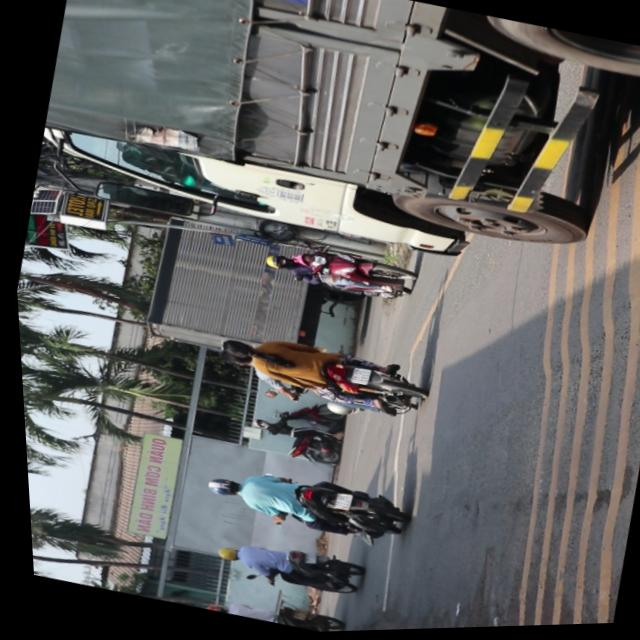helmet: (197, 473, 233, 499), (258, 253, 289, 273)
licenseplate: (201, 320, 425, 432), (192, 452, 406, 556), (252, 233, 416, 313)
motorcyclist: (211, 335, 250, 364)
nohelmet: (343, 367, 365, 387), (325, 494, 345, 513)
